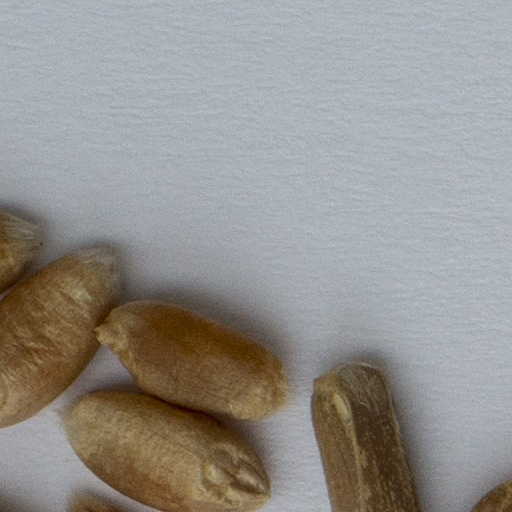Peel-poly: (311, 362, 416, 511)
